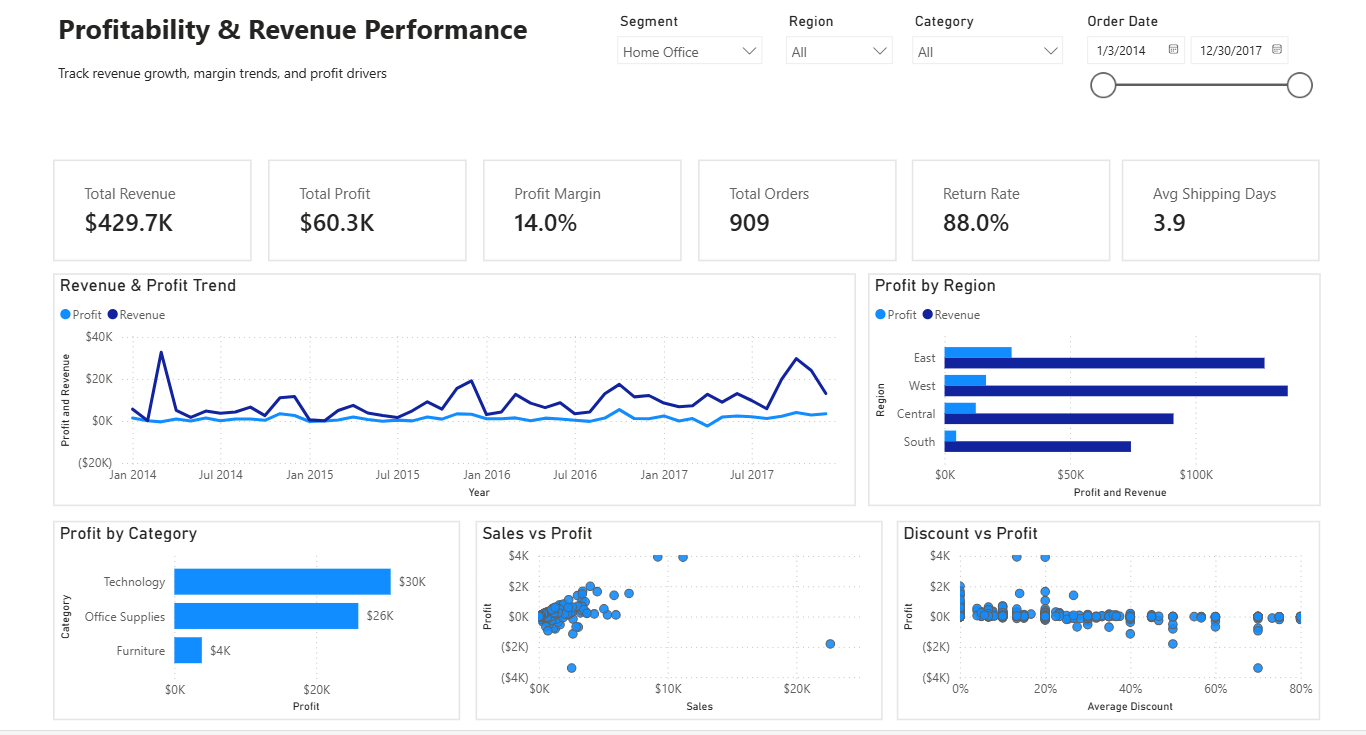

What the dashboard file says about the page in this screenshot:
{"tool":"powerbi","page":{"name":"Page 1","canvas":[1280,720],"ordinal":0},"visuals":[{"type":"cardVisual","fields":{"Data":["superstore_processed.Total Revenue"]},"box":[19.6,160.2,195,100.3],"z":0},{"type":"cardVisual","fields":{"Data":["superstore_processed.Total Profit"]},"box":[230.9,160.2,195,100.3],"z":1000},{"type":"cardVisual","fields":{"Data":["superstore_processed.Profit Margin"]},"box":[442.1,160.2,195,100.3],"z":2000},{"type":"cardVisual","fields":{"Data":["superstore_processed.Total Orders"]},"box":[652.9,160.2,195,100.3],"z":3000},{"type":"cardVisual","fields":{"Data":["superstore_processed.Return Rate"]},"box":[863.6,160.2,195,100.3],"z":4000},{"type":"lineChart","title":"Revenue & Profit Trend","fields":{"Category":["superstore_processed.Order Date.Variation.Date Hierarchy.Year","superstore_processed.Order Date.Variation.Date Hierarchy.Month"],"Y":["superstore_processed.Total Profit","superstore_processed.Total Revenue"]},"box":[20,271.2,788.8,228.8],"z":5000},{"type":"clusteredBarChart","title":"Profit by Category","fields":{"Category":["superstore_processed.Category"],"Y":["superstore_processed.Total Profit"]},"box":[20,515,400,196.2],"z":6000},{"type":"scatterChart","title":"Sales vs Profit","fields":{"X":["Sum(superstore_processed.Sales)"],"Y":["Sum(superstore_processed.Profit)"],"Category":["superstore_processed.Product Name"]},"box":[434.4,515,400,196],"z":7000},{"type":"scatterChart","title":"Discount vs Profit","fields":{"X":["Avg(superstore_processed.Discount)"],"Y":["Sum(superstore_processed.Profit)"],"Category":["superstore_processed.Product Name"]},"box":[848.8,515,416.2,196],"z":8000},{"type":"clusteredBarChart","title":"Profit by Region","fields":{"Category":["superstore_processed.Region"],"Y":["superstore_processed.Total Profit","superstore_processed.Total Revenue"]},"box":[820,271.2,445,228.8],"z":9000},{"type":"slicer","fields":{"Values":["superstore_processed.Region"]},"box":[728.8,10,125,85],"z":10000},{"type":"slicer","fields":{"Values":["superstore_processed.Segment"]},"box":[563.8,10,162.5,67.5],"z":11000},{"type":"slicer","fields":{"Values":["superstore_processed.Category"]},"box":[853.8,10,168.8,85],"z":12000},{"type":"slicer","fields":{"Values":["superstore_processed.Order Date"]},"box":[1022.5,10,242.5,150],"z":13000},{"type":"textbox","box":[20,7.5,543.8,115],"z":14000},{"type":"cardVisual","fields":{"Data":["superstore_processed.Avg Shipping Days"]},"box":[1070,160.2,194.4,100.3],"z":15000}]}

Visuals, with their boxes on the page's 1280x720 design canvas (x1, y1, x2, y2). These are canvas units, not pixel positions in the 1366x735 screenshot, which may show the page scaled, cropped or inside an application window:
cardVisual - superstore_processed.Total Revenue: left=20, top=160, right=215, bottom=260
cardVisual - superstore_processed.Total Profit: left=231, top=160, right=426, bottom=260
cardVisual - superstore_processed.Profit Margin: left=442, top=160, right=637, bottom=260
cardVisual - superstore_processed.Total Orders: left=653, top=160, right=848, bottom=260
cardVisual - superstore_processed.Return Rate: left=864, top=160, right=1059, bottom=260
"Revenue & Profit Trend" lineChart: left=20, top=271, right=809, bottom=500
"Profit by Category" clusteredBarChart: left=20, top=515, right=420, bottom=711
"Sales vs Profit" scatterChart: left=434, top=515, right=834, bottom=711
"Discount vs Profit" scatterChart: left=849, top=515, right=1265, bottom=711
"Profit by Region" clusteredBarChart: left=820, top=271, right=1265, bottom=500
slicer - superstore_processed.Region: left=729, top=10, right=854, bottom=95
slicer - superstore_processed.Segment: left=564, top=10, right=726, bottom=78
slicer - superstore_processed.Category: left=854, top=10, right=1023, bottom=95
slicer - superstore_processed.Order Date: left=1022, top=10, right=1265, bottom=160
textbox: left=20, top=8, right=564, bottom=122
cardVisual - superstore_processed.Avg Shipping Days: left=1070, top=160, right=1264, bottom=260
